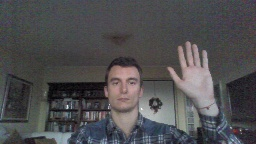Mano_aperta: (165, 38, 214, 106)
